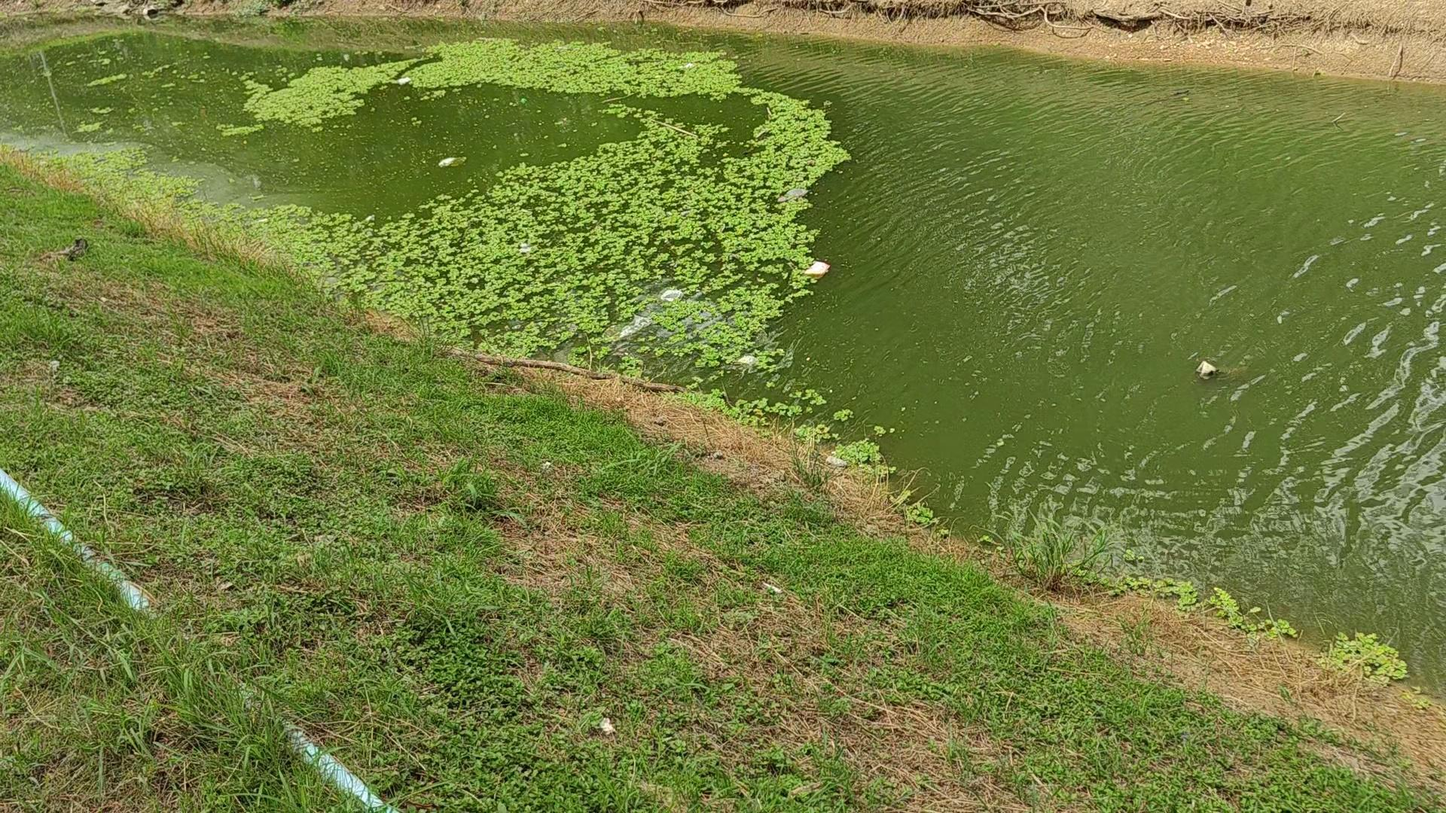trash: (620, 315, 651, 337), (804, 260, 829, 278), (779, 187, 807, 202), (1196, 361, 1217, 378), (660, 289, 682, 302), (737, 354, 757, 365), (438, 157, 460, 166), (519, 242, 532, 253), (682, 62, 695, 69)
